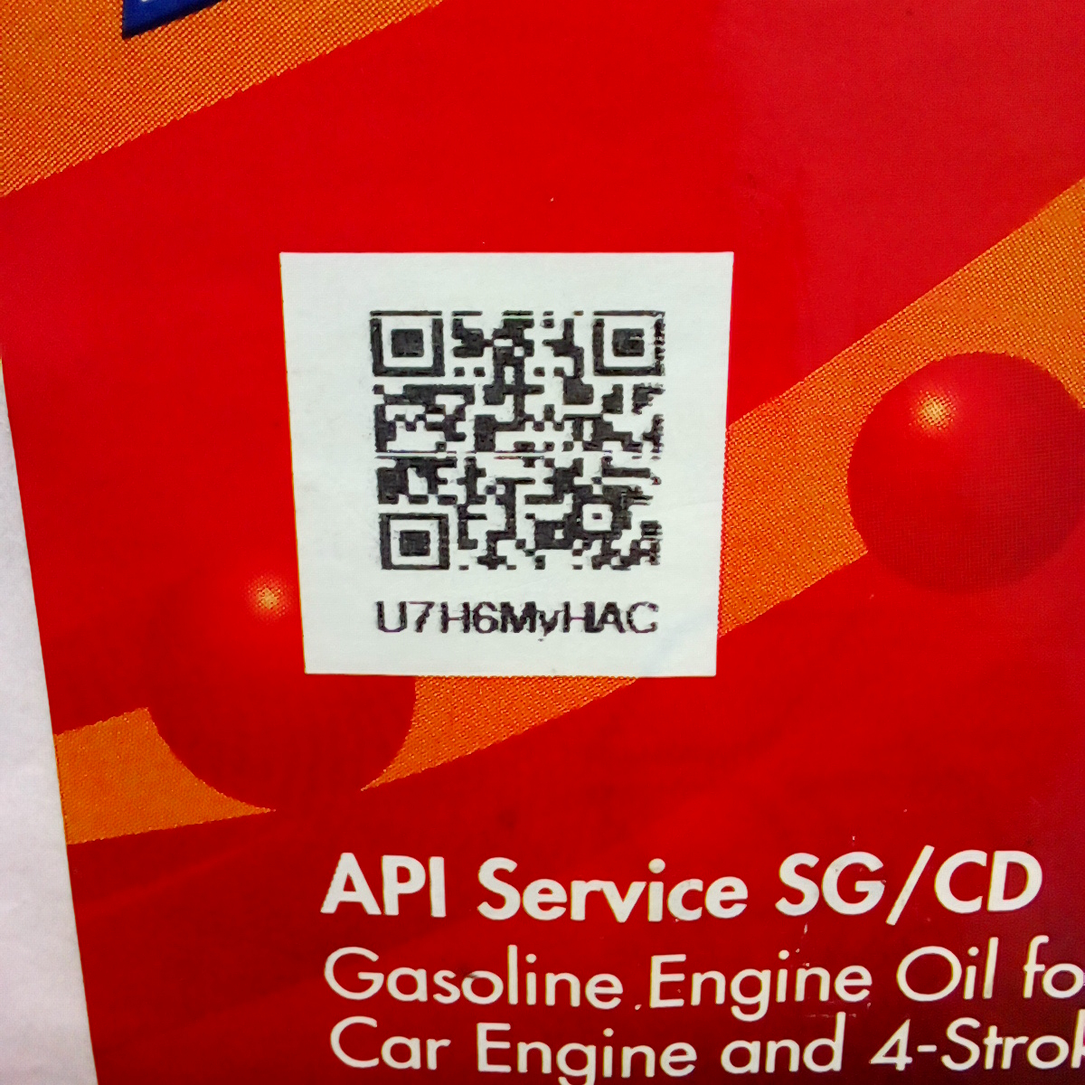QR-CODE: (361, 295, 677, 583)
